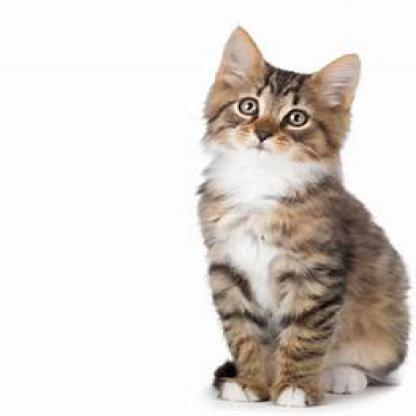cat: (219, 25, 406, 395)
